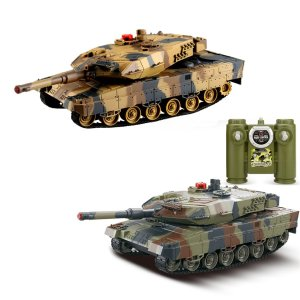Battle Tank: (15, 26, 245, 123), (85, 186, 297, 272)
